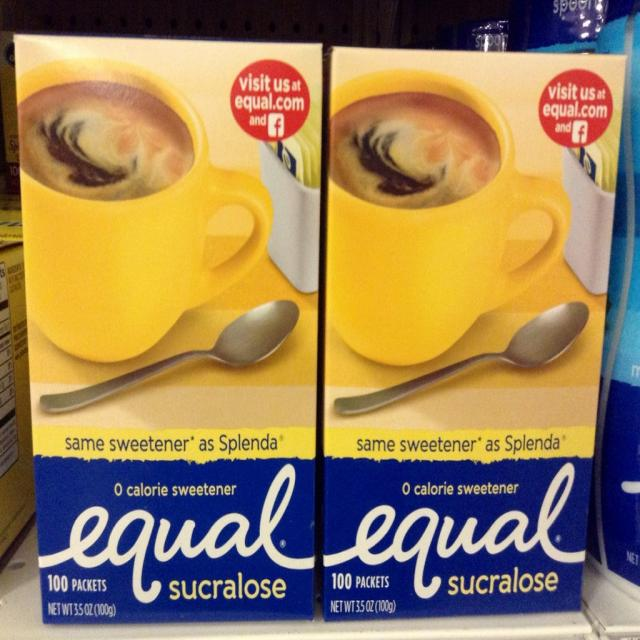Coffee: (324, 89, 506, 211), (18, 76, 194, 200)
